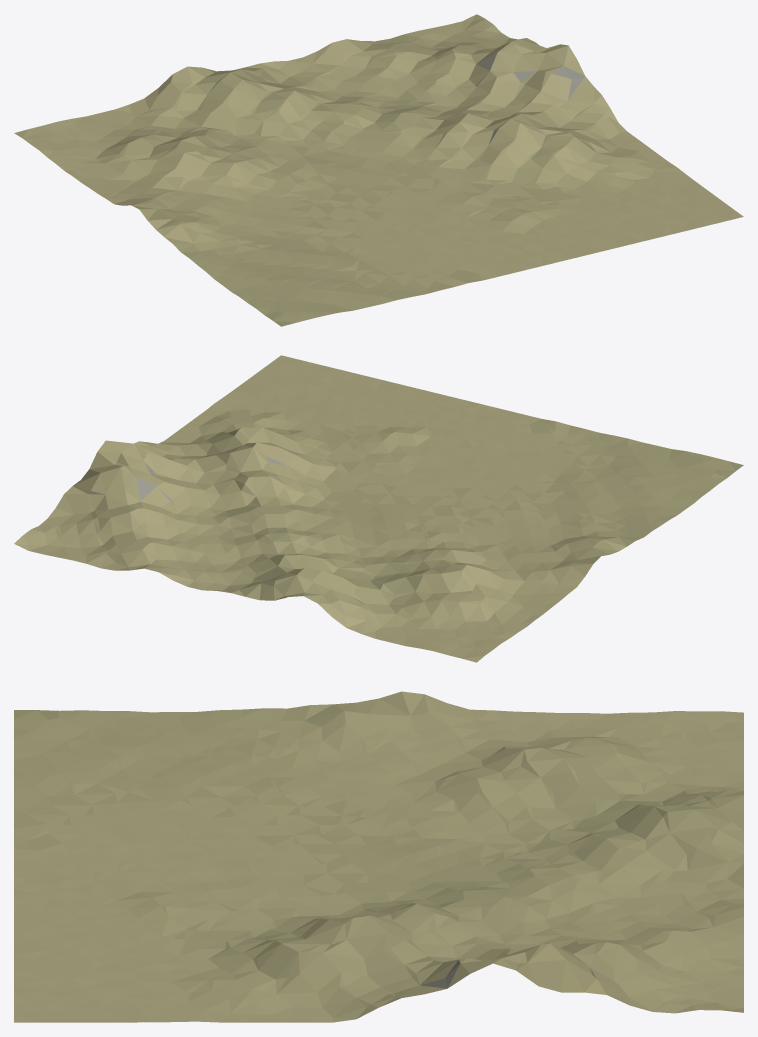
Rendered from Ground_3_5.glb.
3 views of the same model, one above another, from view 1: azimuth 30°, elevation 25°; view 2: azimuth 150°, elevation 25°; view 3: azimuth 270°, elevation 25° (orthographic). The views are drawn at different scales.
Parts seen in each view (by area): view 1: Ground_3_5; view 2: Ground_3_5; view 3: Ground_3_5.
Part boxes in pixels (x1,y1,x2,y2): Ground_3_5: [14, 14, 743, 326]; Ground_3_5: [14, 355, 743, 662]; Ground_3_5: [14, 691, 743, 1022].
Bounding box in the file's own units: 768 × 68.44 × 768.
